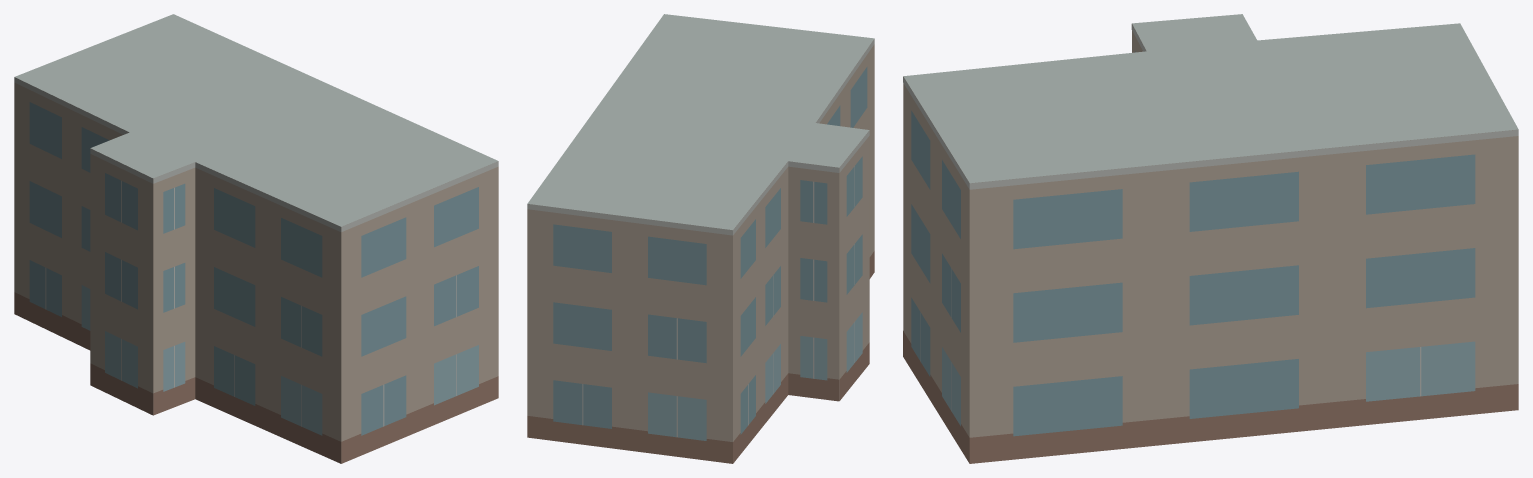
Rendered from survey-upis-32674894.glb.
The picture shows the model from 3 angles, left to right: view 1: azimuth 30°, elevation 25°; view 2: azimuth 150°, elevation 25°; view 3: azimuth 270°, elevation 25°; orthographic projection. The views are drawn at different scales.
Parts seen in each view (by area): view 1: survey-upis-32674894.tmp; view 2: survey-upis-32674894.tmp; view 3: survey-upis-32674894.tmp.
Boxes of the visible parts, box(x1,y1,x2,y2) form: survey-upis-32674894.tmp: box(14, 14, 498, 463); survey-upis-32674894.tmp: box(527, 14, 874, 463); survey-upis-32674894.tmp: box(903, 14, 1518, 463).
Bounding box in the file's own units: 13.73 × 10.6 × 21.08.
